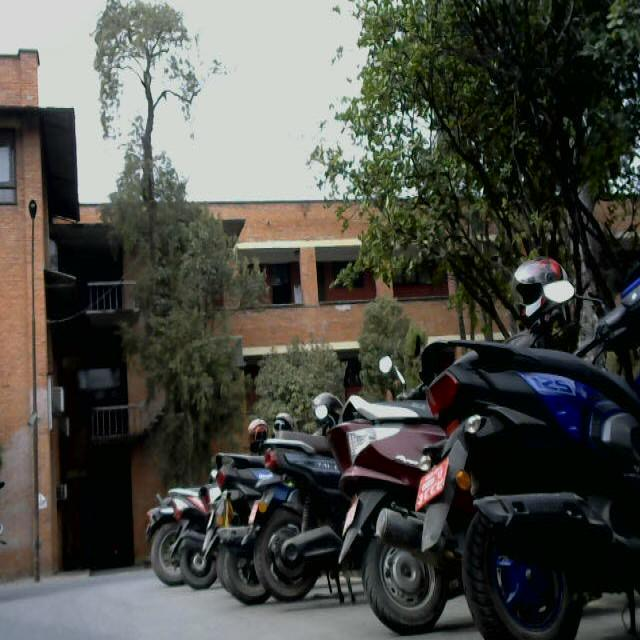Bike: (420, 265, 640, 639), (332, 381, 442, 635), (140, 444, 248, 610), (248, 416, 328, 607)
Pole: (23, 184, 55, 579)
Road: (0, 586, 496, 640)
trees: (90, 0, 252, 443), (244, 354, 366, 421)
